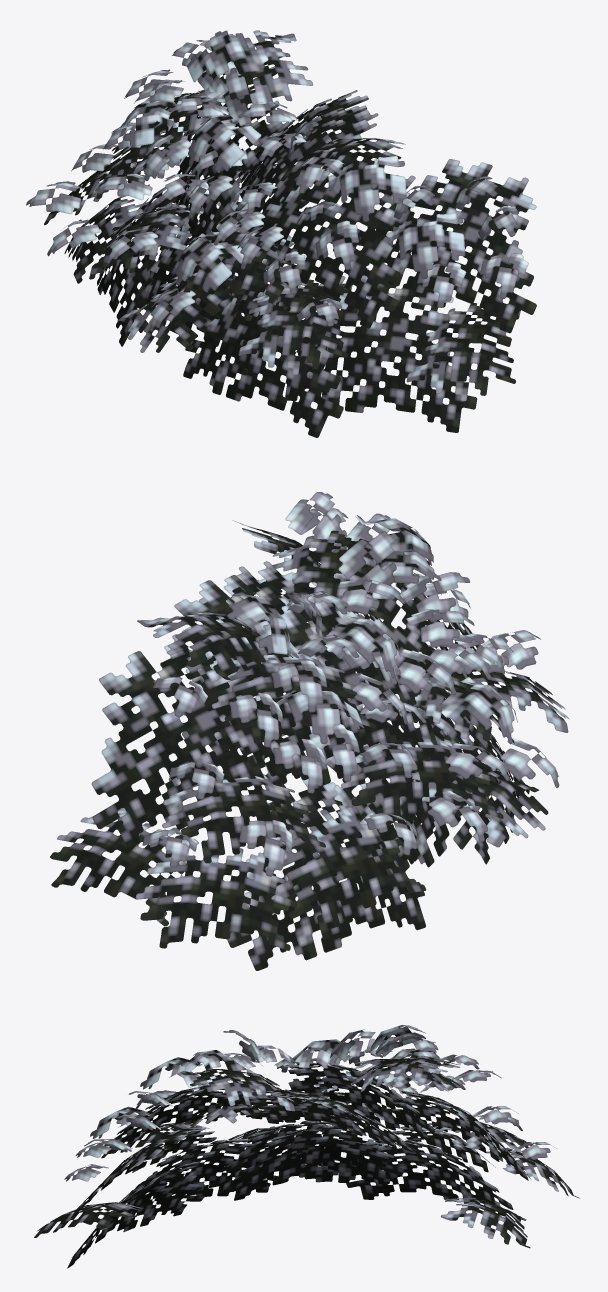
File: EnvFldMD_Grass_M_B_Snow.FBX
The picture shows the model from 3 angles, top to bottom: view 1: azimuth 30°, elevation 25°; view 2: azimuth 150°, elevation 25°; view 3: azimuth 270°, elevation 25°; orthographic projection. The views are drawn at different scales.
Visible parts, largest first — view 1: EnvFldMD_Grass_M_B_Snow; view 2: EnvFldMD_Grass_M_B_Snow; view 3: EnvFldMD_Grass_M_B_Snow.
Part boxes in pixels (bbox=[...]): EnvFldMD_Grass_M_B_Snow: bbox=[26, 30, 536, 437]; EnvFldMD_Grass_M_B_Snow: bbox=[50, 492, 569, 970]; EnvFldMD_Grass_M_B_Snow: bbox=[34, 1025, 579, 1268].
Size of the model in its own units: 358 by 234 by 518.
1 material, 1 textured.
